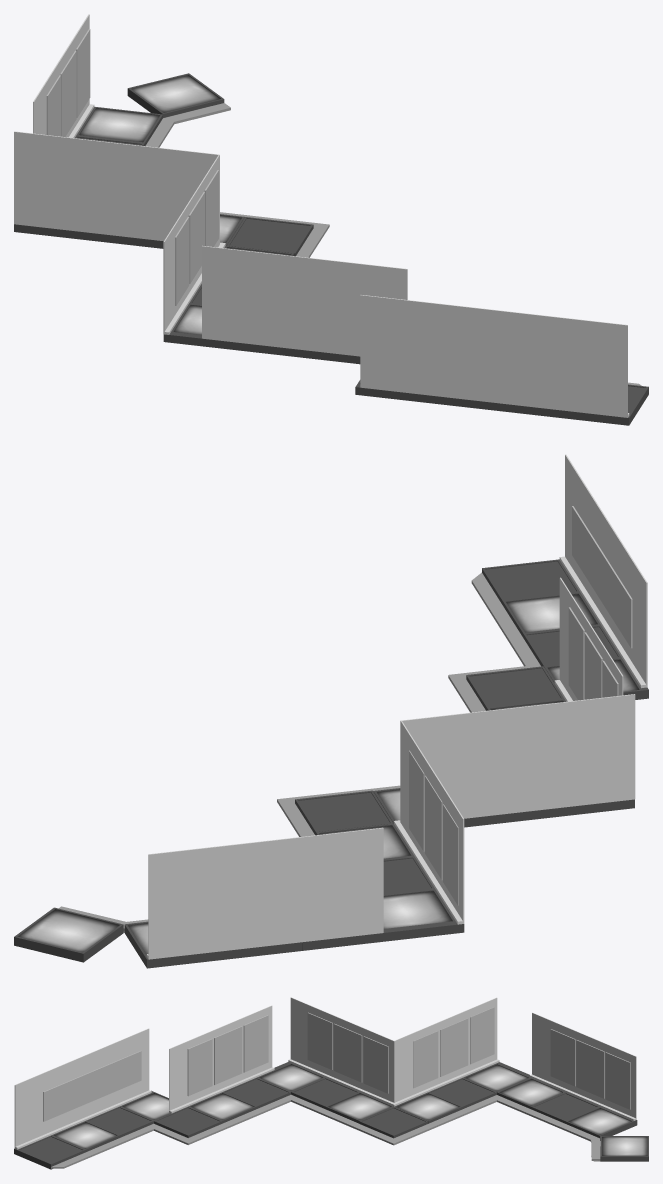
File: IslaRosana.fbx
3 renders of one model, top to bottom at view 1: azimuth 30°, elevation 25°; view 2: azimuth 150°, elevation 25°; view 3: azimuth 270°, elevation 25°, orthographic. The views are drawn at different scales.
Visible parts, largest first — view 1: Background, Background3, Background1, ModPeixe, ModCaranguejo1, Box56, Background2, Box49, Box55, FrameFloor, Background4, Box46 (+3 smaller); view 2: Background4, Background2, Background, ModGarcaBranca1, Background3, Box56, Box52, WallMemory, Box49, Box43, Box, ModGuara (+13 smaller); view 3: Background, ModPeixe, ModCaranguejo1, ModGuara, ModGarcaBranca1, Background4, Background3, Background2, Background1, WallMemory, FrameFloor, FrameFloor1 (+18 smaller).
Part boxes in pixels (box(x1,y1,x2,y2)): Background: box(360, 295, 629, 417); Background3: box(14, 131, 225, 246); Background1: box(202, 245, 407, 356); ModPeixe: box(175, 170, 218, 305); ModCaranguejo1: box(46, 29, 90, 136); Box56: box(127, 73, 224, 117); Background2: box(163, 154, 224, 334); Box49: box(227, 217, 313, 256); Box55: box(76, 106, 162, 145); FrameFloor: box(145, 103, 329, 257); Background4: box(33, 14, 94, 137); Box46: box(163, 303, 237, 350); Background4: box(146, 827, 383, 959); Background2: box(398, 694, 635, 822); Background: box(559, 454, 647, 688); ModGarcaBranca1: box(409, 750, 458, 905); Background3: box(394, 721, 464, 924); Box56: box(14, 907, 123, 962); Box52: box(380, 889, 464, 941); WallMemory: box(572, 506, 632, 648); Box49: box(295, 790, 393, 835); Box43: box(466, 666, 564, 710); Box: box(482, 559, 579, 604); ModGuara: box(568, 607, 618, 700); Background: box(14, 1028, 151, 1149); ModPeixe: box(307, 1012, 388, 1093); ModCaranguejo1: box(550, 1029, 630, 1109); ModGuara: box(187, 1015, 268, 1096); ModGarcaBranca1: box(413, 1007, 494, 1087); Background4: box(529, 1012, 636, 1120); Background3: box(392, 997, 499, 1106); Background2: box(288, 997, 394, 1105); Background1: box(169, 1005, 274, 1113); WallMemory: box(43, 1051, 141, 1121); FrameFloor: box(291, 1094, 600, 1160); FrameFloor1: box(51, 1095, 290, 1168).
Bounding box in the file's own units: 12.65 × 3.9 × 32.7.
